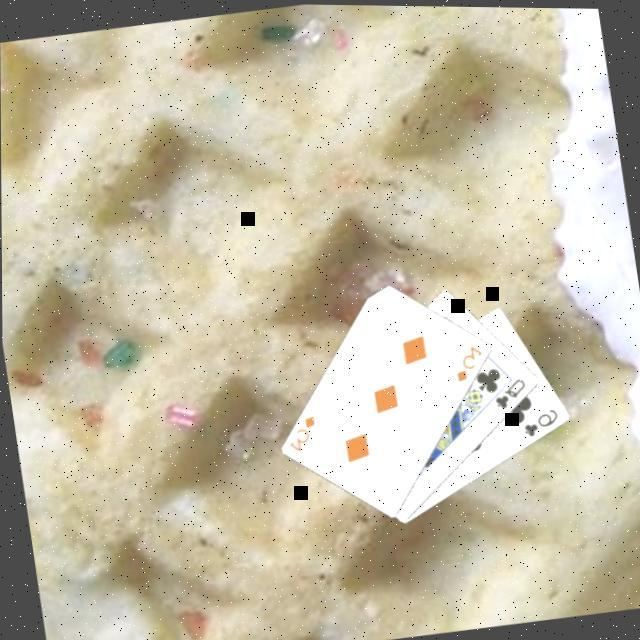3D: (448, 338, 487, 382), (282, 409, 321, 453)
6C: (517, 401, 562, 437)
QC: (488, 371, 530, 410)
